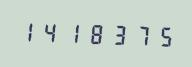eight: (83, 19, 104, 47)
five: (149, 21, 170, 49)
four: (39, 18, 60, 45)
one: (61, 18, 82, 46), (17, 17, 38, 44)
seven: (127, 21, 148, 48)
three: (105, 20, 126, 48)
